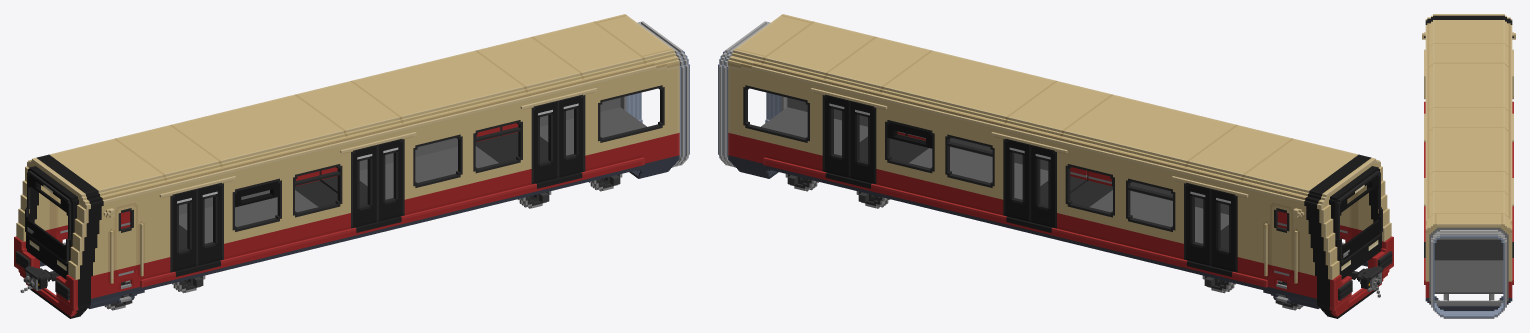
3 renders of one model, left to right at view 1: azimuth 30°, elevation 25°; view 2: azimuth 150°, elevation 25°; view 3: azimuth 270°, elevation 25°, orthographic. The views are drawn at different scales.
Visible parts, largest first — view 1: FRAME_1, FRAME_2, INTERIOR_2_LCG_il_GLOBAL_LINVERT, INTERIOR_1_LCG_il_GLOBAL_LINVERT, Scharfenberg Coupler; view 2: FRAME_1, FRAME_2, INTERIOR_2_LCG_il_GLOBAL_LINVERT, INTERIOR_1_LCG_il_GLOBAL_LINVERT, Scharfenberg Coupler; view 3: FRAME_2, FRAME_1, INTERIOR_2_LCG_il_GLOBAL_LINVERT, BOGEY_REAR_WHEEL_2.
Part boxes in pixels (bbox=[...]): FRAME_1: bbox=[14, 88, 377, 318]; FRAME_2: bbox=[319, 14, 689, 233]; INTERIOR_2_LCG_il_GLOBAL_LINVERT: bbox=[320, 88, 661, 205]; INTERIOR_1_LCG_il_GLOBAL_LINVERT: bbox=[121, 159, 368, 251]; Scharfenberg Coupler: bbox=[20, 266, 60, 292]; FRAME_1: bbox=[1030, 88, 1393, 318]; FRAME_2: bbox=[718, 14, 1088, 233]; INTERIOR_2_LCG_il_GLOBAL_LINVERT: bbox=[746, 88, 1087, 205]; INTERIOR_1_LCG_il_GLOBAL_LINVERT: bbox=[1039, 159, 1286, 251]; Scharfenberg Coupler: bbox=[1347, 266, 1383, 297]; FRAME_2: bbox=[1424, 117, 1513, 318]; FRAME_1: bbox=[1422, 14, 1515, 177]; INTERIOR_2_LCG_il_GLOBAL_LINVERT: bbox=[1434, 238, 1503, 293]; BOGEY_REAR_WHEEL_2: bbox=[1443, 294, 1494, 300].
Bounding box in the file's own units: 18.62 × 3.69 × 3.25.
1 material, 1 textured.
